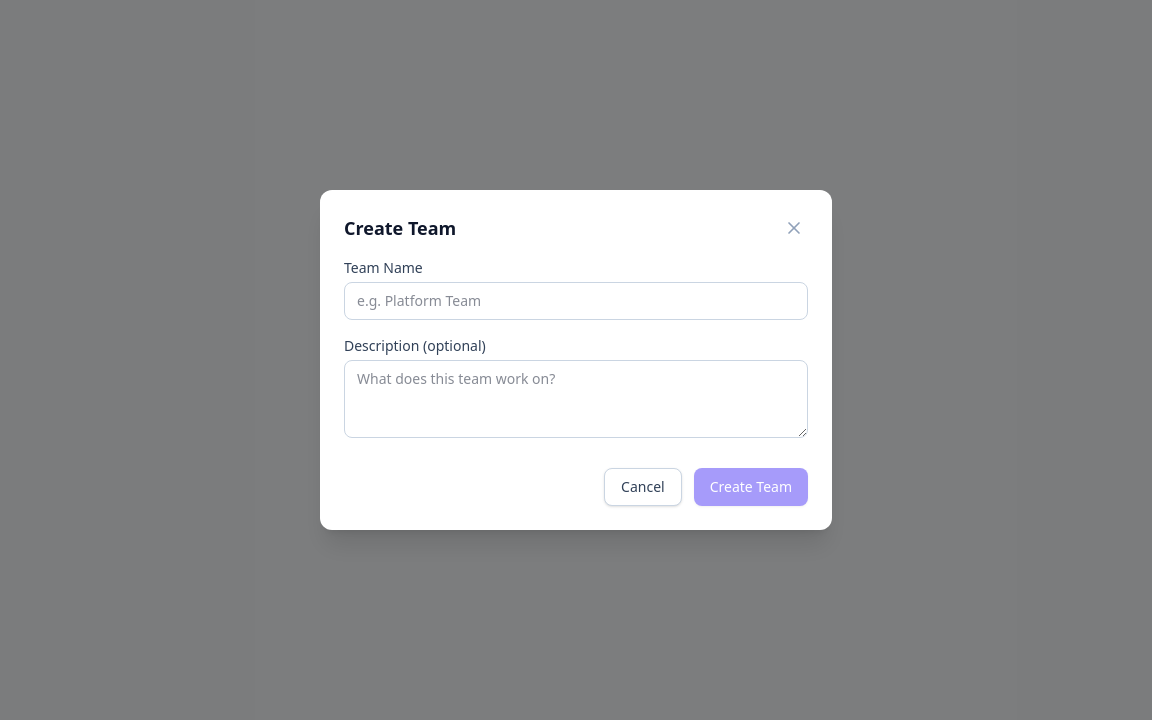
Test: CreateTeamModal › should enable submit when name is provided
Type "My Team" into the field labelled "Team Name" at (576, 301), box x1=344 y1=282 x2=808 y2=320
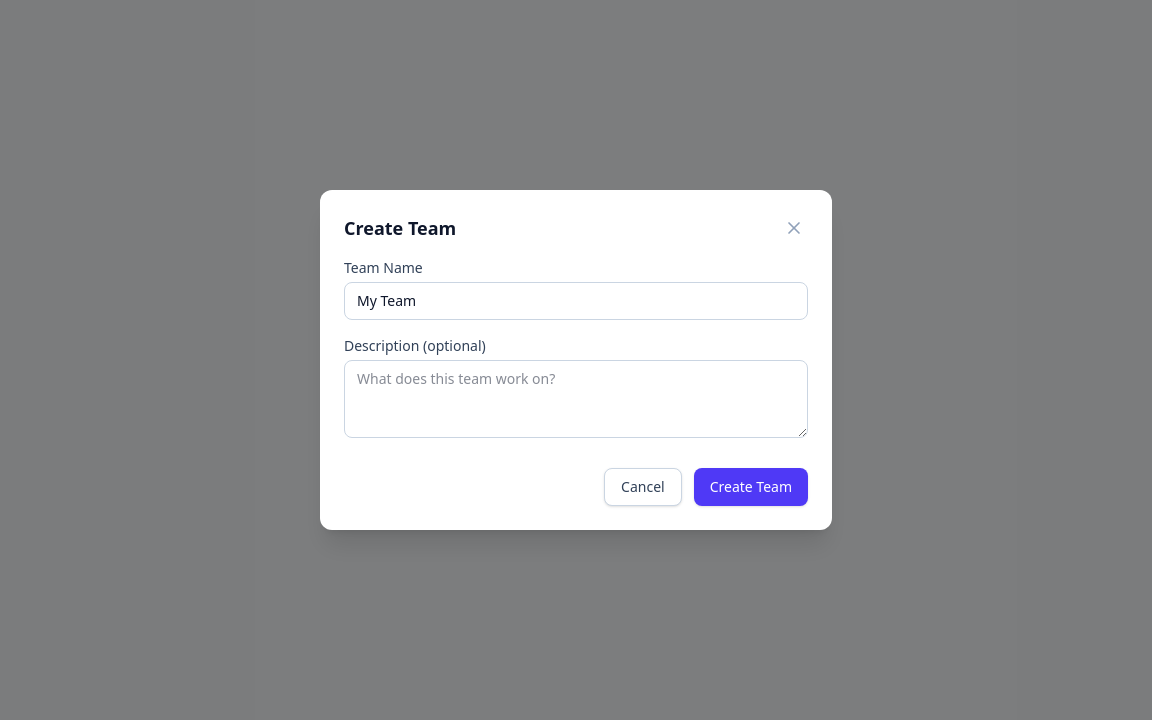
Check: the button "Create Team" is enabled, box x1=694 y1=468 x2=808 y2=506
